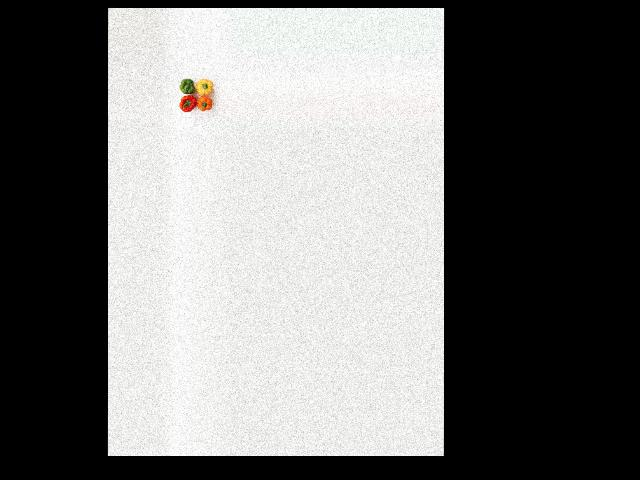bell_pepper: (178, 74, 196, 98)
